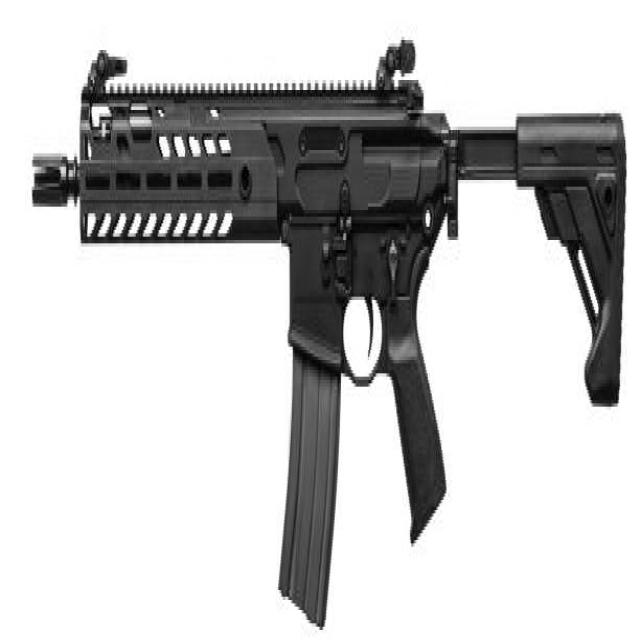rifle: (31, 1, 631, 640)
